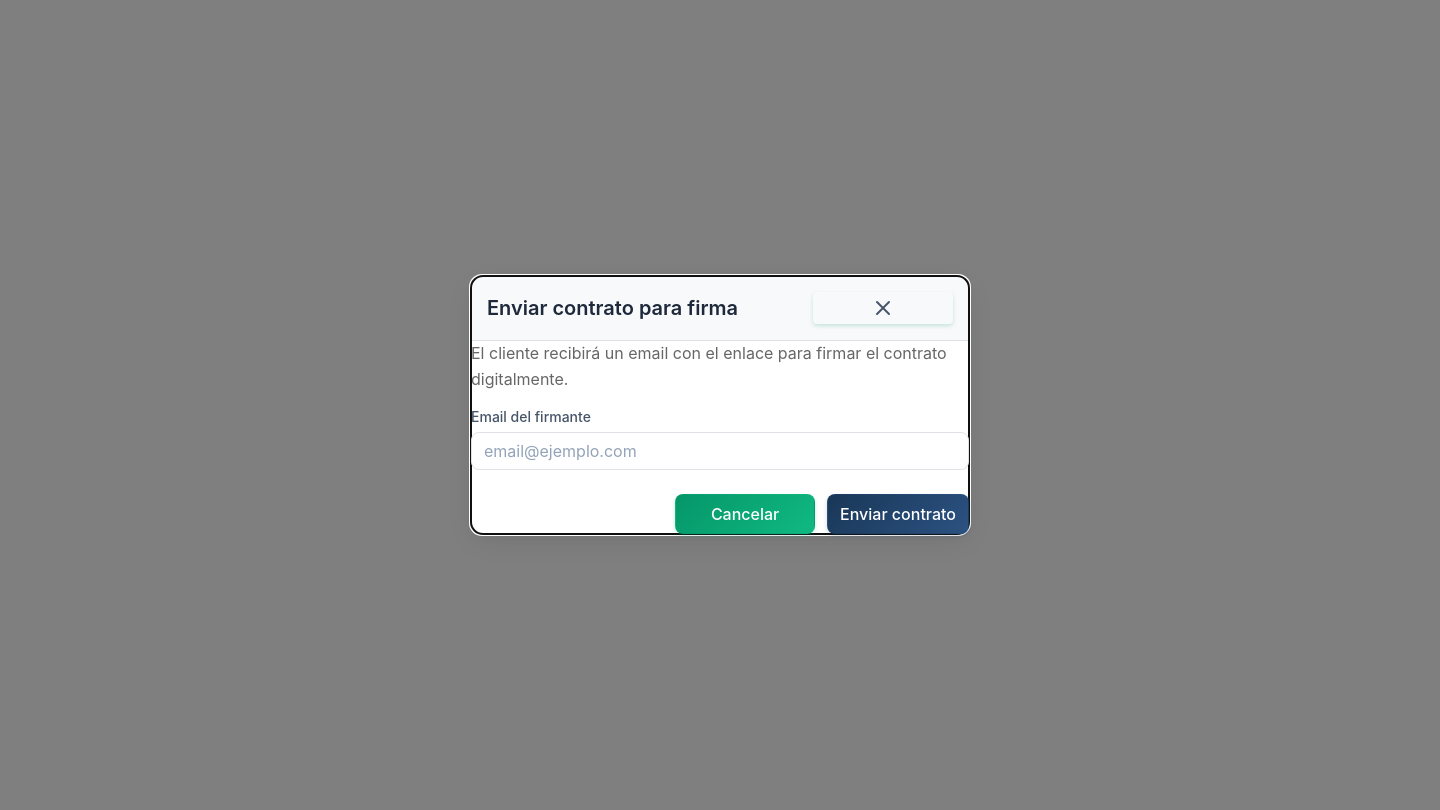
Scenario: SendContractModal › shows error when email format is invalid
This screenshot has width=1440, height=810.
Type "notanemail" into the field with placeholder "email@ejemplo.com".
click(720, 451); type("notanemail")  # box top-left (472, 433), bottom-right (968, 469)
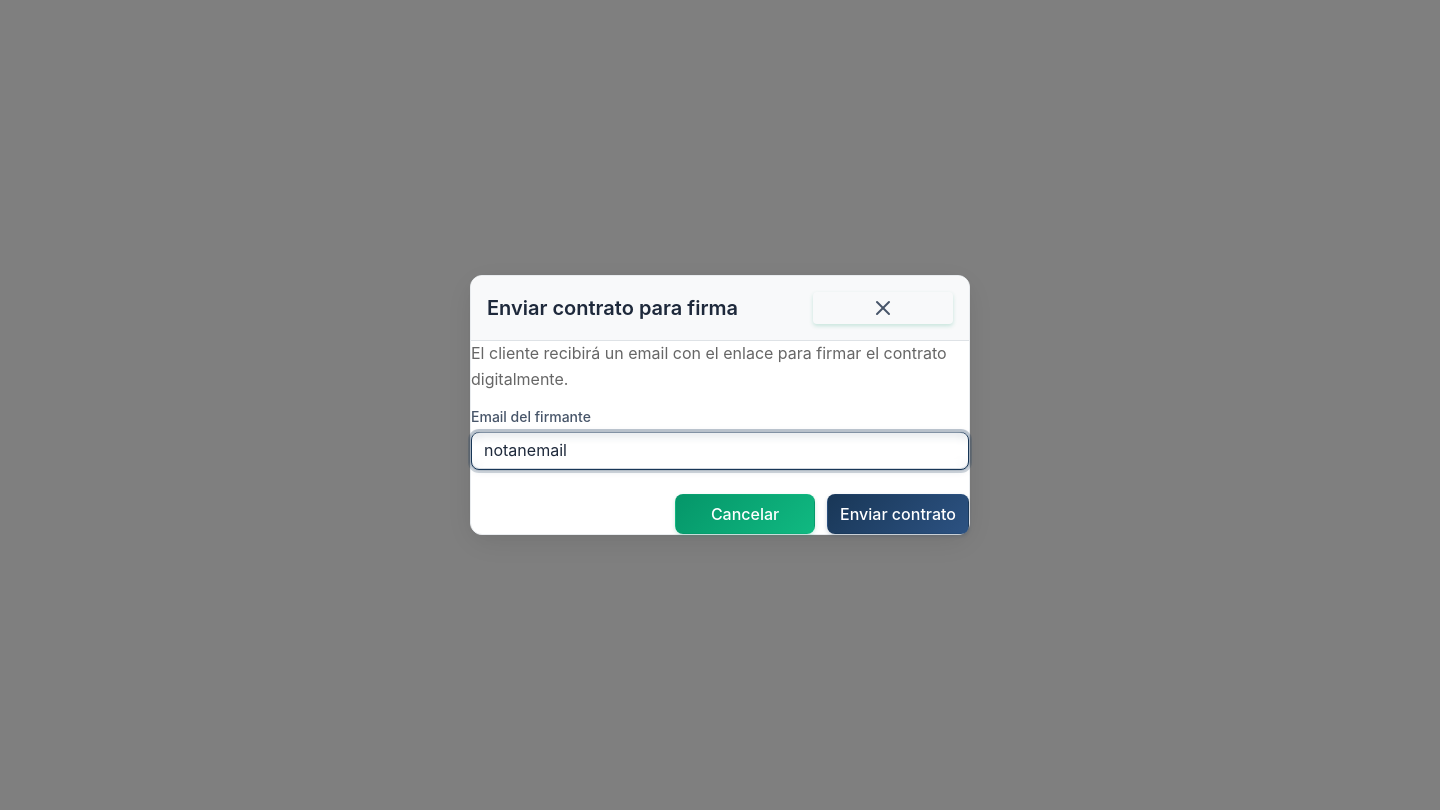
Click the button "Enviar contrato".
click(898, 514)  # box top-left (827, 494), bottom-right (969, 534)
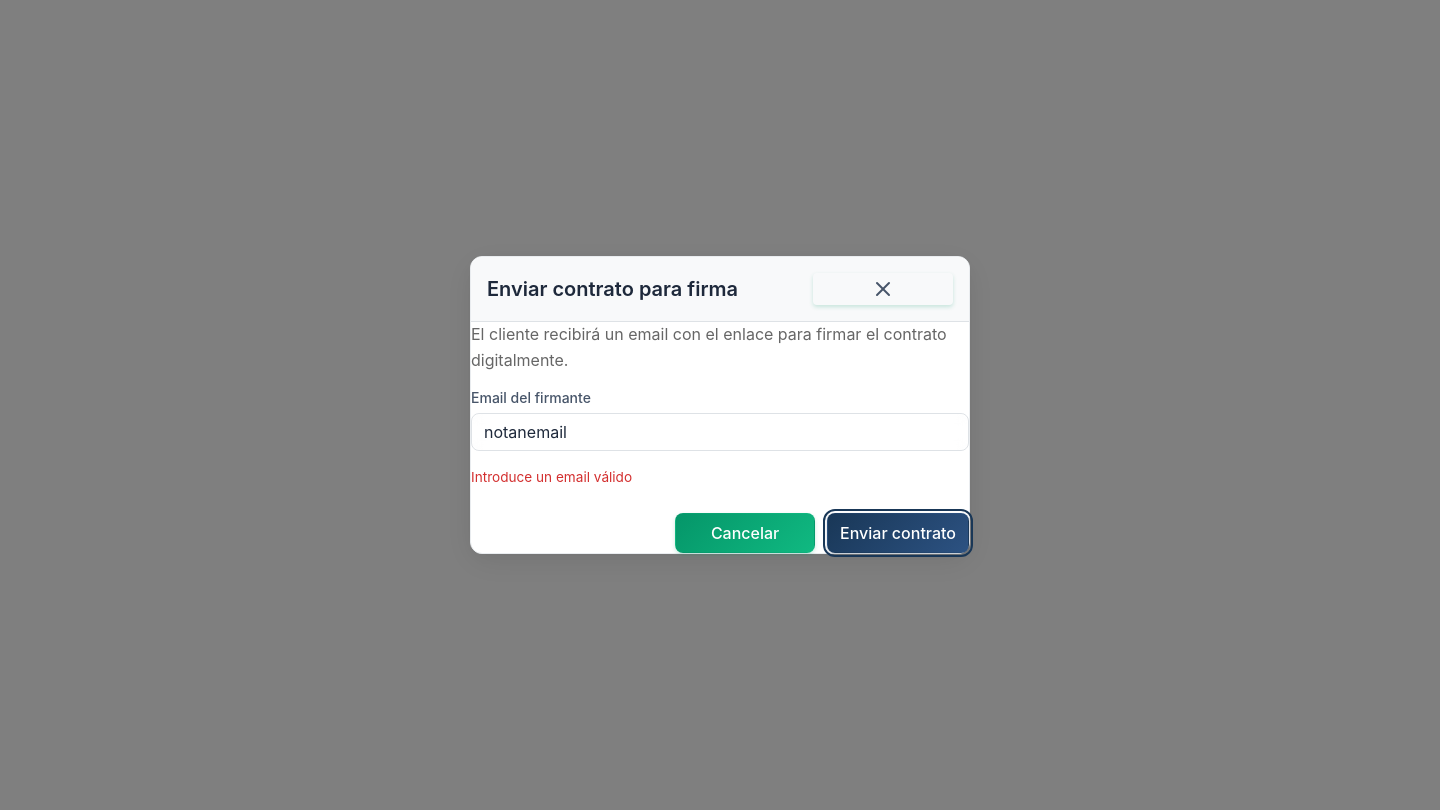
Now the text "Introduce un email válido" is shown, box top-left (471, 469), bottom-right (632, 485)
